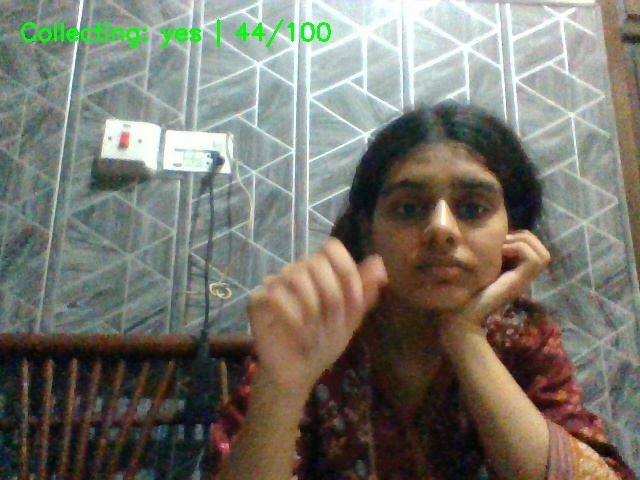yes: (242, 237, 391, 405)
